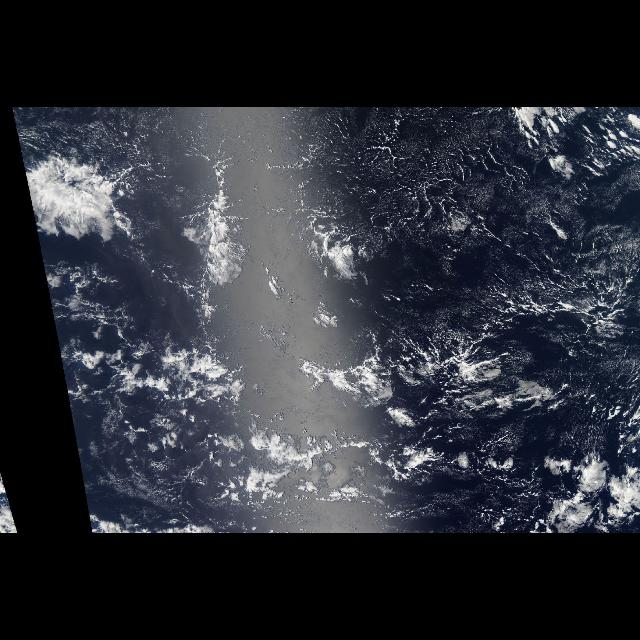Fish: (165, 124, 243, 288)
Flower: (46, 294, 364, 530)
Gravel: (250, 110, 636, 467)
